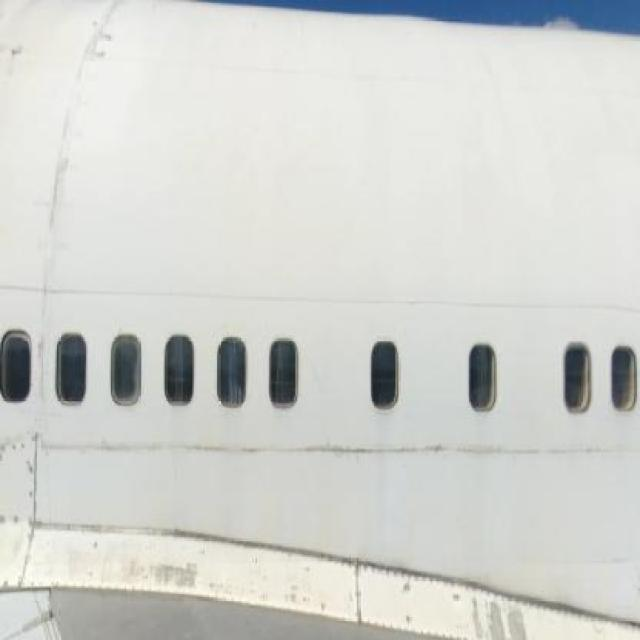Missing-Rivet: (0, 430, 43, 582)
Scartch: (450, 583, 542, 640), (122, 543, 207, 597)
